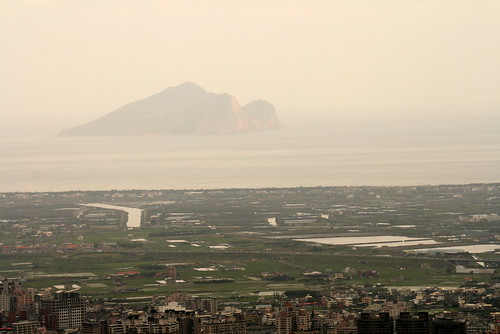turtleIsland: (59, 81, 281, 133)
